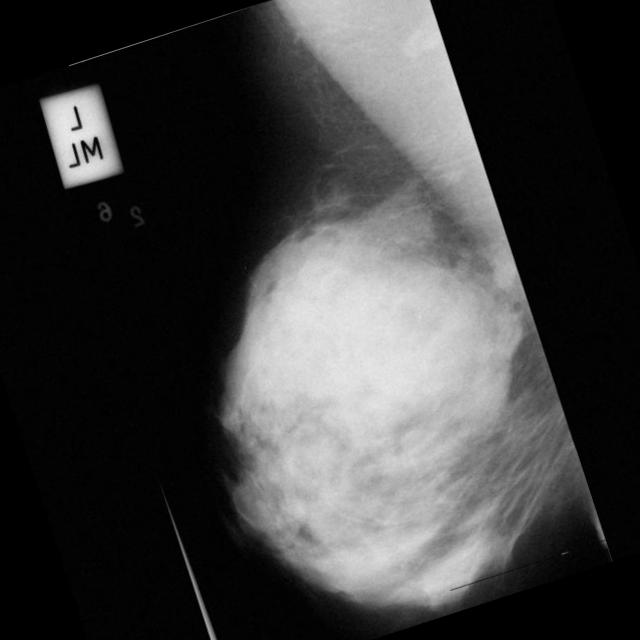ARCH: (237, 392, 316, 470)
